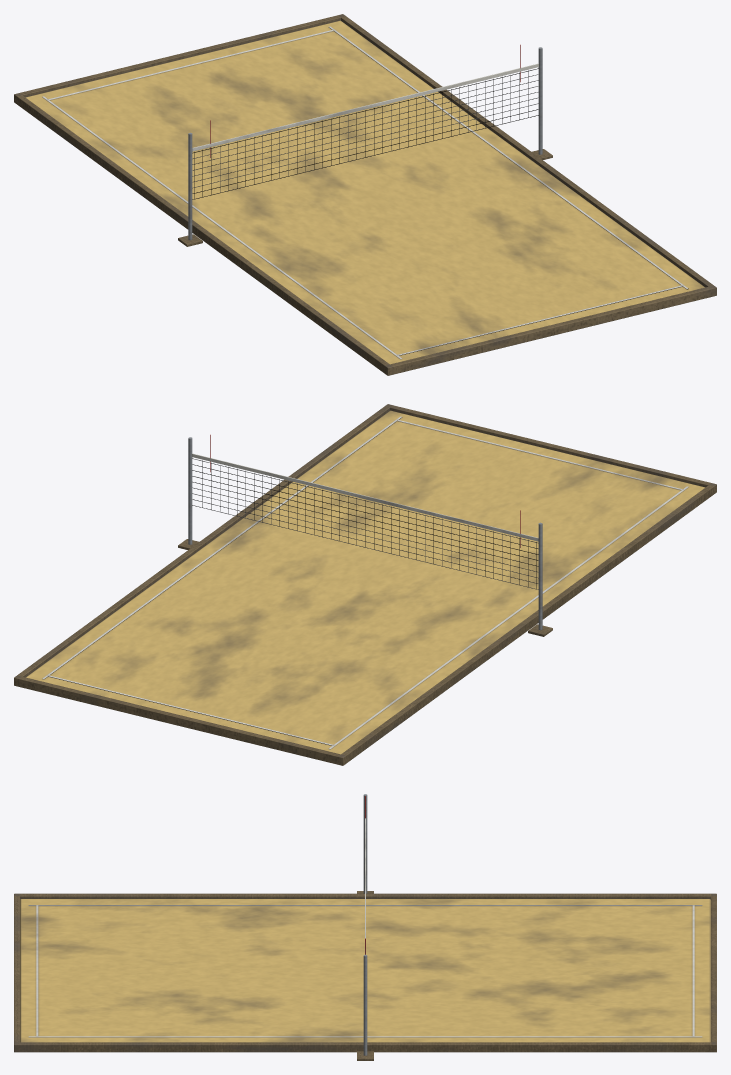
Rendered from siatkowka_boisko.glb.
The picture shows the model from 3 angles, top to bottom: view 1: azimuth 30°, elevation 25°; view 2: azimuth 150°, elevation 25°; view 3: azimuth 270°, elevation 25°; orthographic projection. The views are drawn at different scales.
Parts seen in each view (by area): view 1: Siatkowka; view 2: Siatkowka; view 3: Siatkowka.
Boxes of the visible parts, bbox=[...] form: Siatkowka: bbox=[14, 14, 716, 375]; Siatkowka: bbox=[14, 404, 716, 765]; Siatkowka: bbox=[14, 794, 716, 1060].
Size of the model in its own units: 9.2 by 2.8 by 16.28.
1 material, 1 textured.
